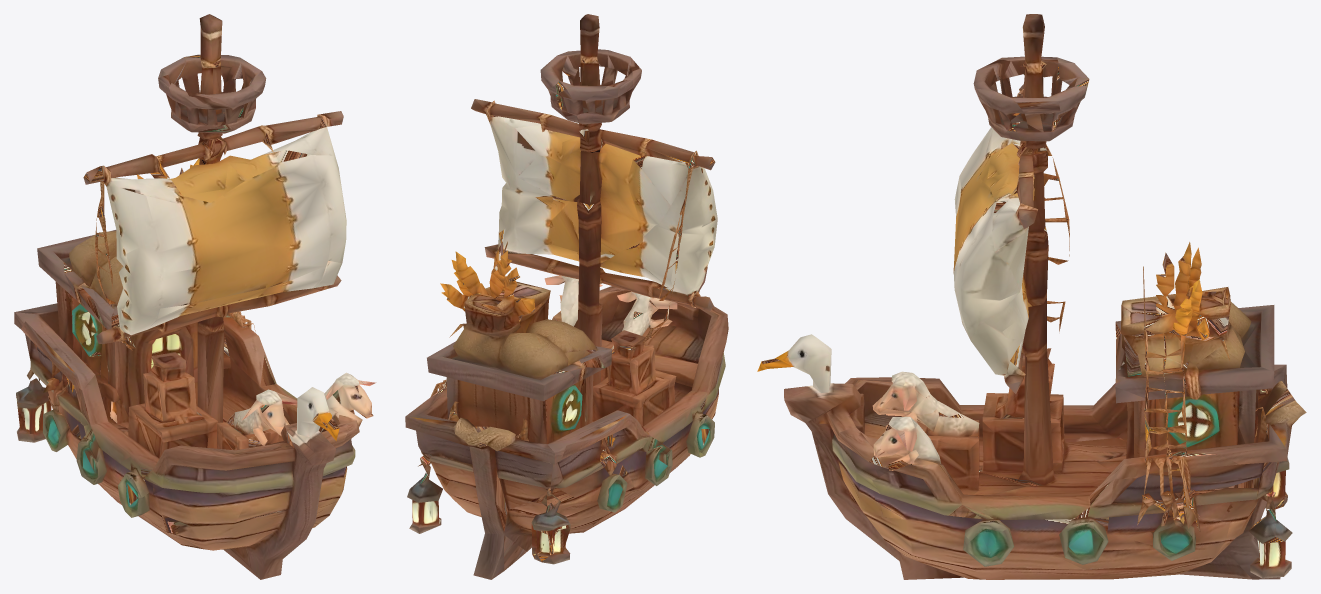
Rendered from sheep-boat.glb.
3 renders of one model, left to right at view 1: azimuth 30°, elevation 25°; view 2: azimuth 150°, elevation 25°; view 3: azimuth 270°, elevation 25°, orthographic. The views are drawn at different scales.
Visible parts, largest first — view 1: model; view 2: model; view 3: model.
Part boxes in pixels (x1,y1,x2,y2): model: (14,14,376,579); model: (405,14,728,579); model: (757,14,1306,579).
Size of the model in its own units: 0.9757 by 1.9 by 1.69.
Materials: 1 (1 with a texture image).
